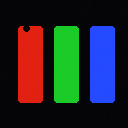0 point: (23, 25, 29, 31)
